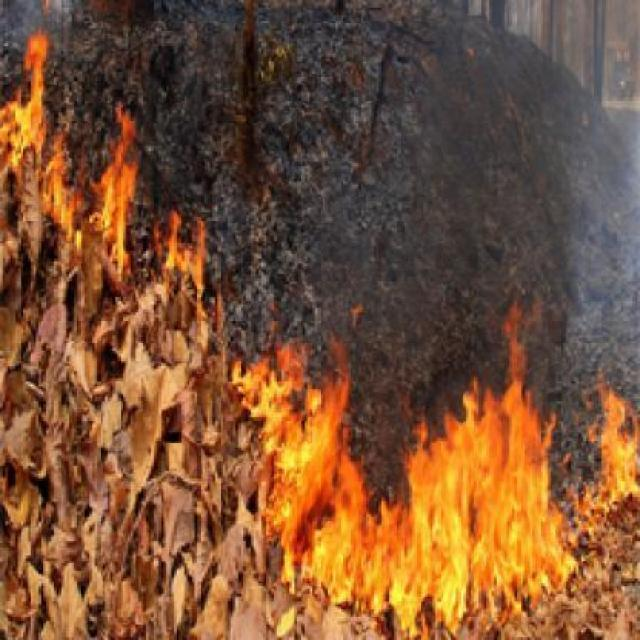Fire: (39, 279, 639, 640), (0, 7, 158, 294)
